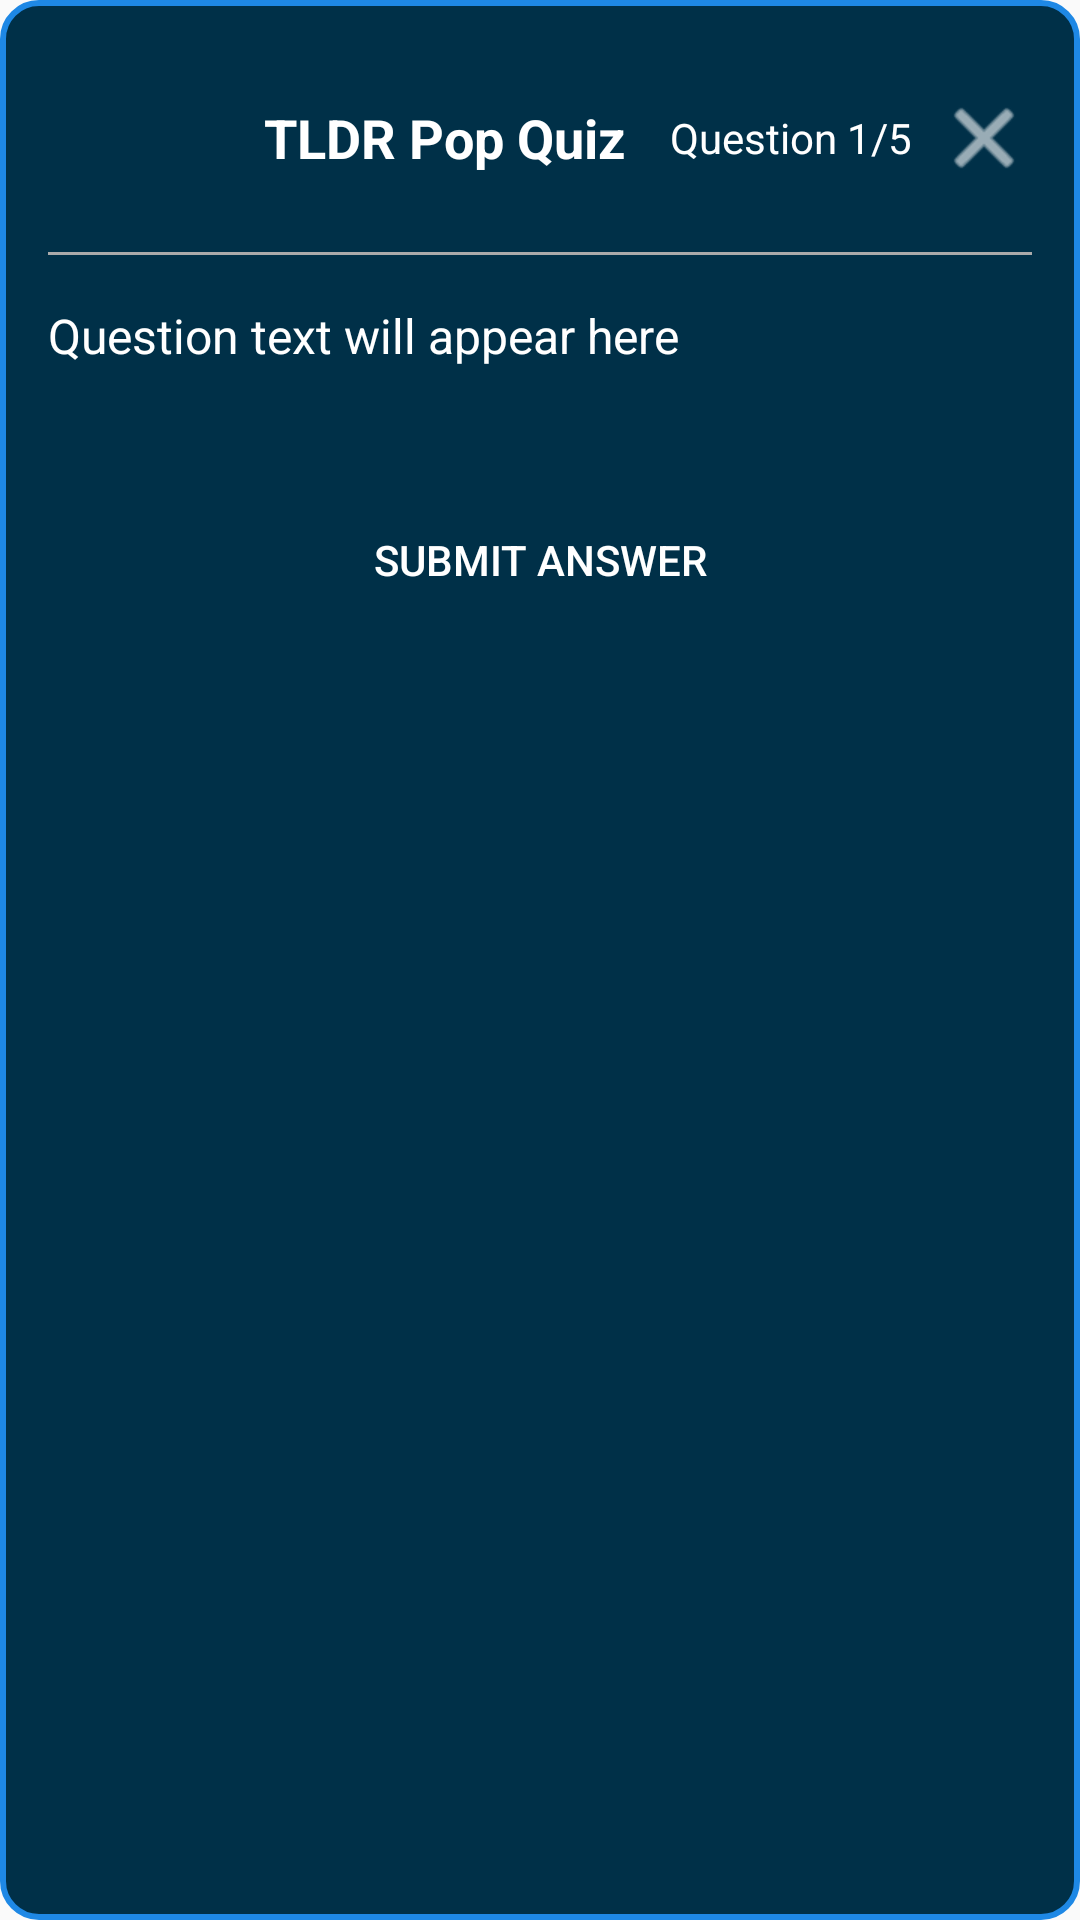

Named icons in this screenshot (1080w x 1920h) and their centers, point (x, y):
close clear cancel: point (984, 138)
